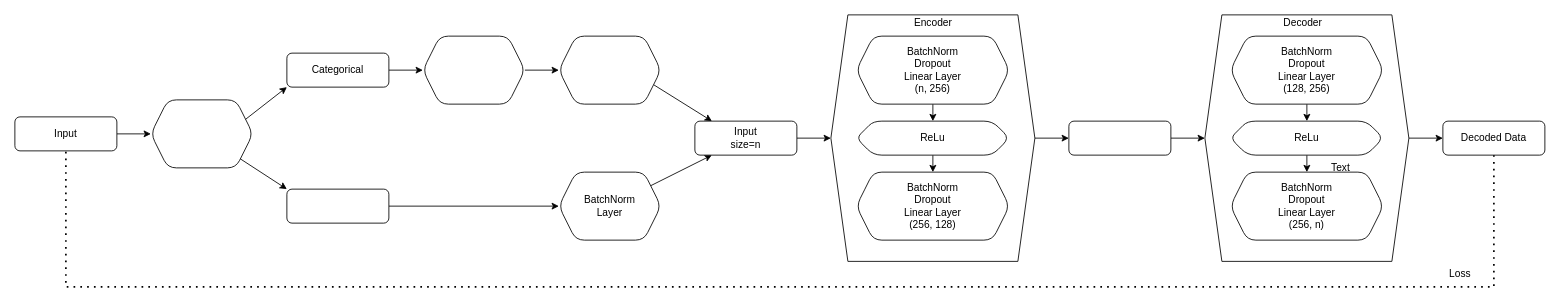
The diagram is 1560 pixels wide and 303 high, and some of its shapes have lost their labels. The shapes that lost their labels are listed below. From the top down, each one's centre as x and y in pixels, then its label:
At (x=473, y=69): "Embedding Layer".
At (x=609, y=69): "Dropout Layer".
At (x=201, y=133): "Swap Noise".
At (x=1119, y=137): "Encoded Data size=128".
At (x=337, y=205): "Continuous".
